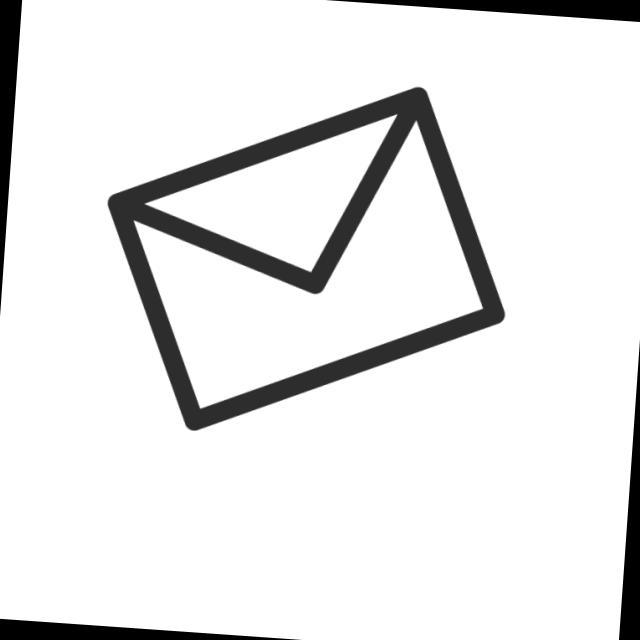letter: (88, 61, 527, 459)
